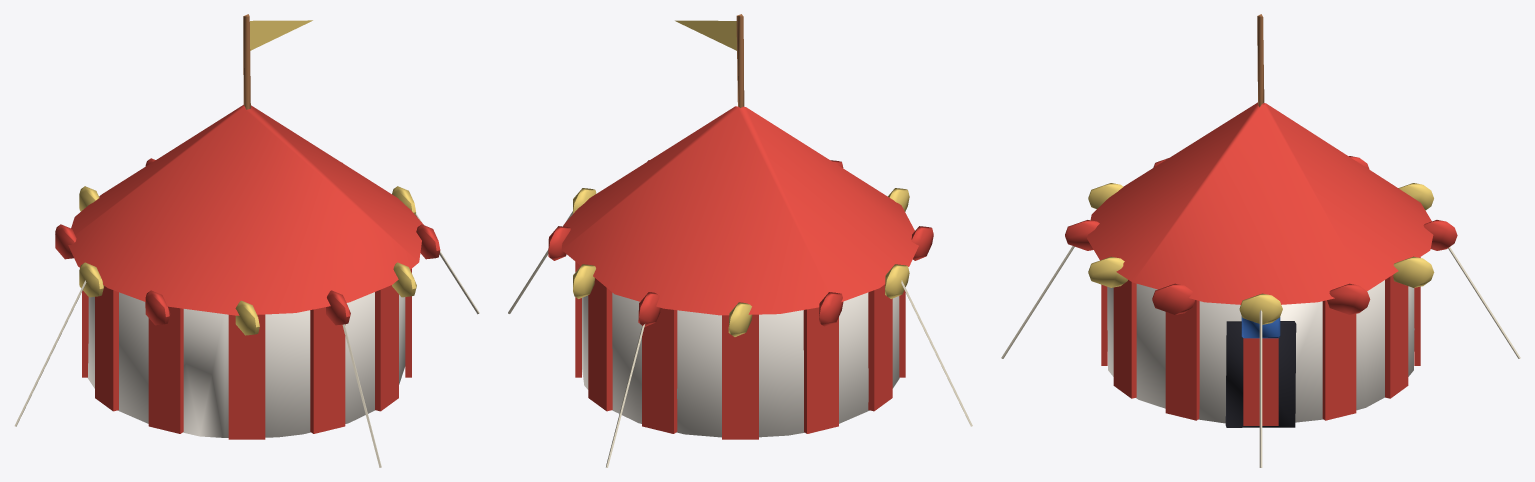
The model's file is pavilion.glb.
The picture shows the model from 3 angles, left to right: view 1: azimuth 30°, elevation 25°; view 2: azimuth 150°, elevation 25°; view 3: azimuth 270°, elevation 25°; orthographic projection. The views are drawn at different scales.
Parts seen in each view (by area): view 1: pavilion; view 2: pavilion; view 3: pavilion.
Part boxes in pixels (box(x1,y1,x2,y2)): pavilion: box(14, 14, 479, 467); pavilion: box(508, 14, 972, 467); pavilion: box(1001, 14, 1520, 467).
Bounding box in the file's own units: 8.03 × 5.9 × 8.03.
1 material, 1 textured.
